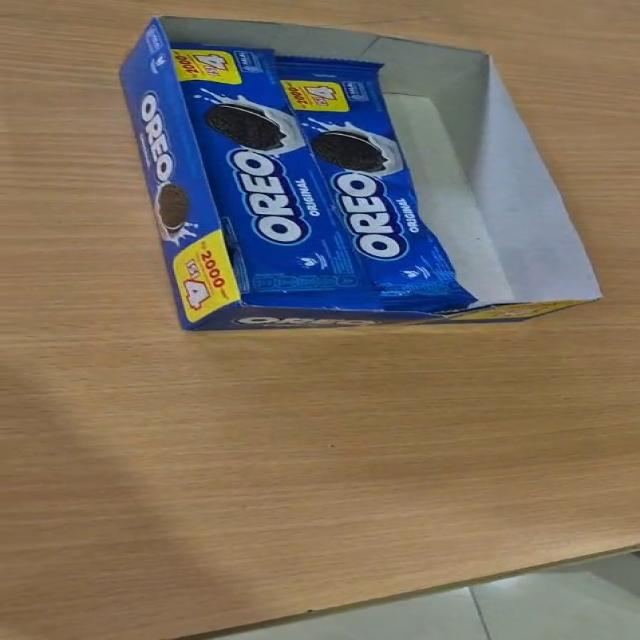Oreo: (163, 41, 384, 312), (276, 56, 477, 314)
